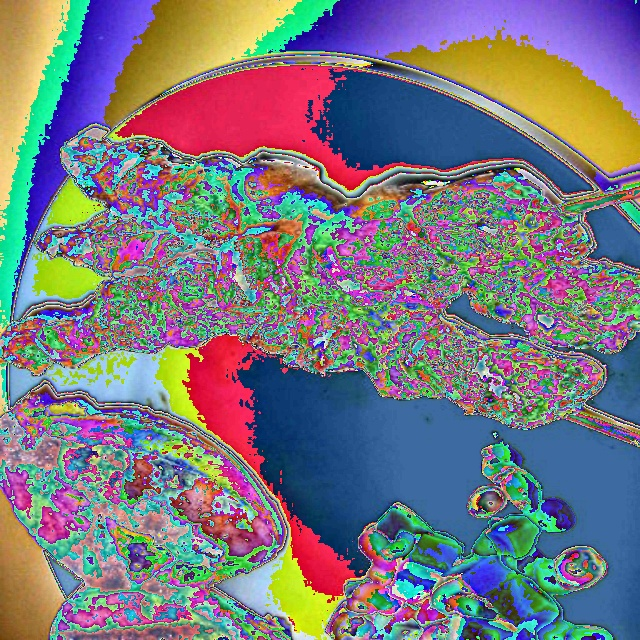background: (0, 127, 640, 429), (285, 197, 613, 639), (0, 250, 292, 639)
